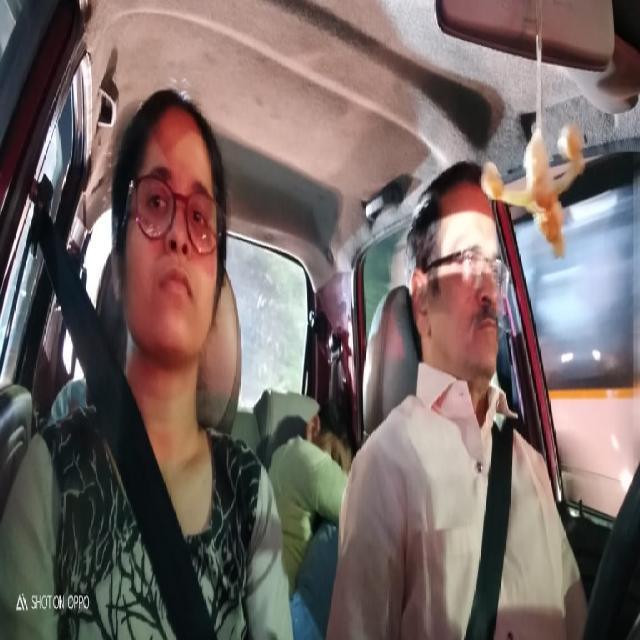person: (108, 81, 236, 378), (406, 160, 509, 383)
